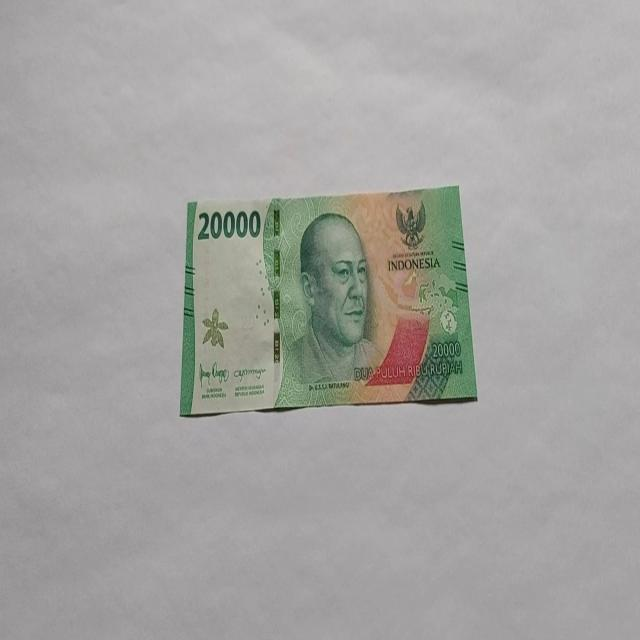dua puluh ribu rupiah: (178, 184, 478, 418)
